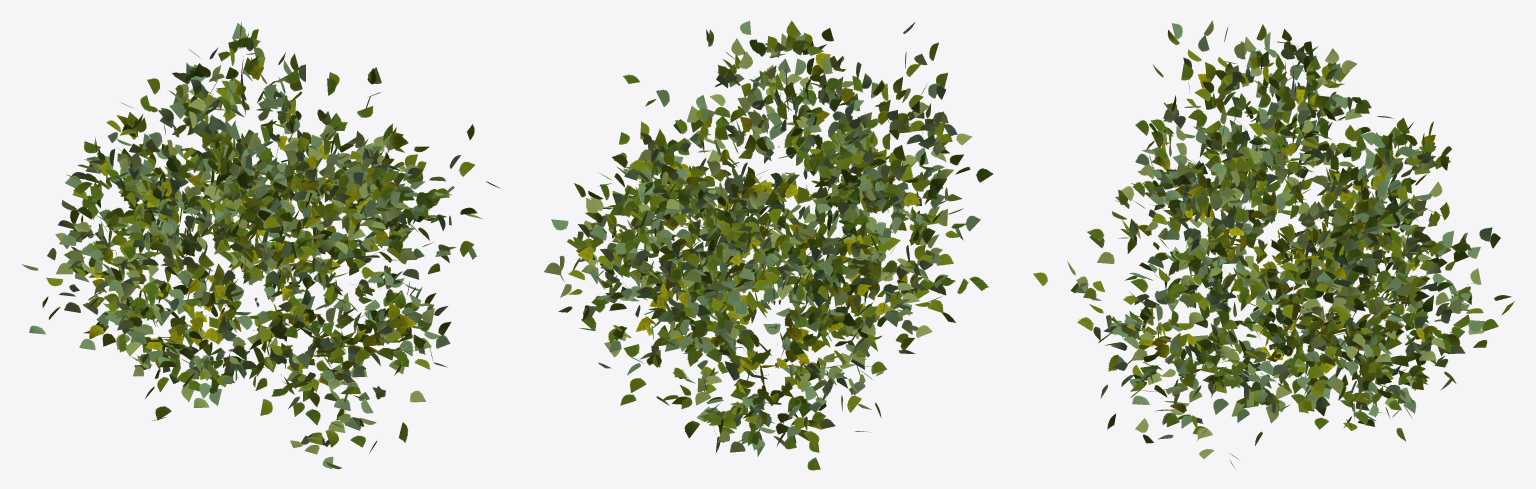
File: photorealistic_bush.glb
The picture shows the model from 3 angles, left to right: view 1: azimuth 30°, elevation 25°; view 2: azimuth 150°, elevation 25°; view 3: azimuth 270°, elevation 25°; orthographic projection.
Visible parts, largest first — view 1: Bush 3 (smaller); view 2: Bush 3 (smaller); view 3: Bush 3 (smaller).
Boxes of the visible parts, bbox=[...] form: Bush 3 (smaller): bbox=[22, 22, 500, 469]; Bush 3 (smaller): bbox=[544, 20, 993, 470]; Bush 3 (smaller): bbox=[1033, 20, 1514, 469].
Bounding box in the file's own units: 1.4 × 1.45 × 1.52.
6 materials, 6 textured.
